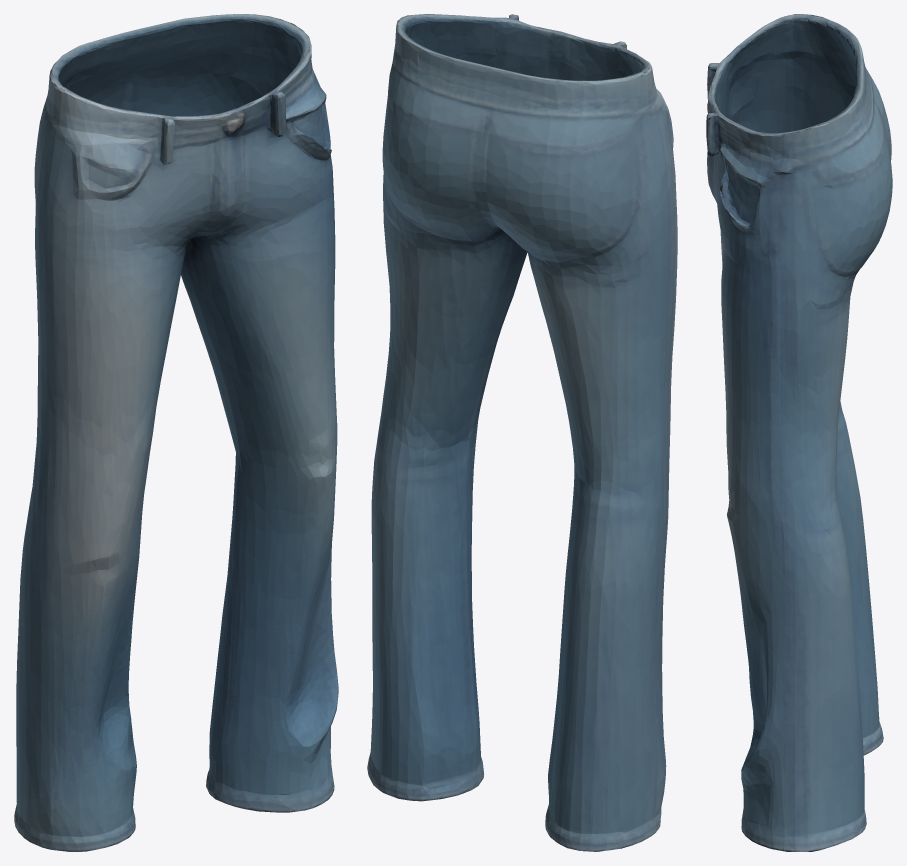
The model's file is Mens_Loose_Jeans.glb.
3 views of the same model, side by side, from view 1: azimuth 30°, elevation 25°; view 2: azimuth 150°, elevation 25°; view 3: azimuth 270°, elevation 25° (orthographic). The views are drawn at different scales.
Parts seen in each view (by area): view 1: world; view 2: world; view 3: world.
Boxes of the visible parts, x1,y1,x2,y2 form: world: (14,14,338,851); world: (367,14,677,851); world: (706,14,892,851).
Bounding box in the file's own units: 0.4013 × 0.9994 × 0.2363.
Materials: 1 (1 with a texture image).
